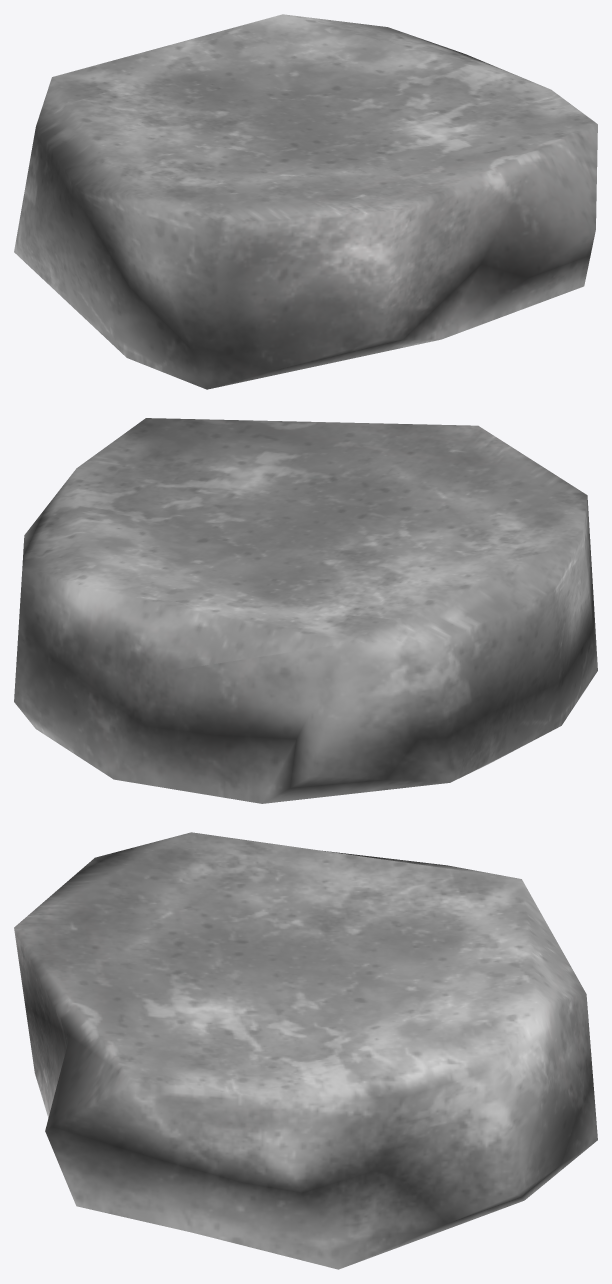
Rendered from Rock3_LOD2.fbx.
3 views of the same model, one above another, from view 1: azimuth 30°, elevation 25°; view 2: azimuth 150°, elevation 25°; view 3: azimuth 270°, elevation 25° (orthographic). The views are drawn at different scales.
Parts seen in each view (by area): view 1: Rock3_2; view 2: Rock3_2; view 3: Rock3_2.
Boxes of the visible parts, bbox=[...] form: Rock3_2: bbox=[14, 14, 597, 389]; Rock3_2: bbox=[14, 418, 597, 803]; Rock3_2: bbox=[14, 832, 597, 1269].
Bounding box in the file's own units: 1.56 × 0.6344 × 1.57.
